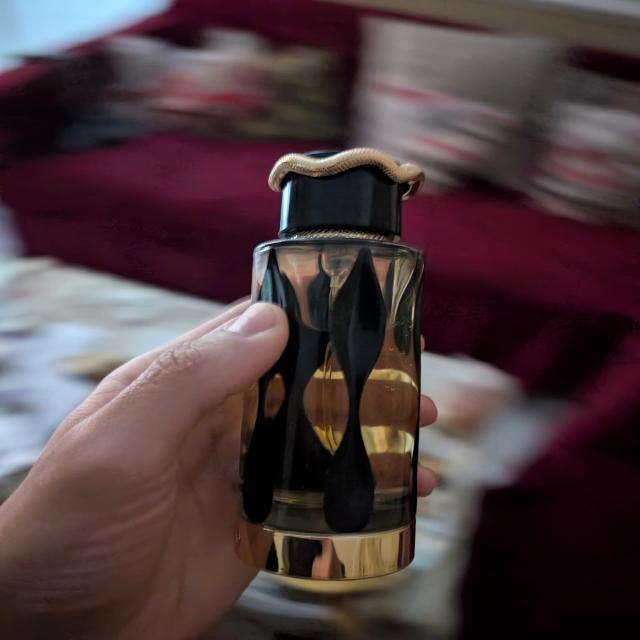Teriaq-Intense: (233, 145, 431, 587)
